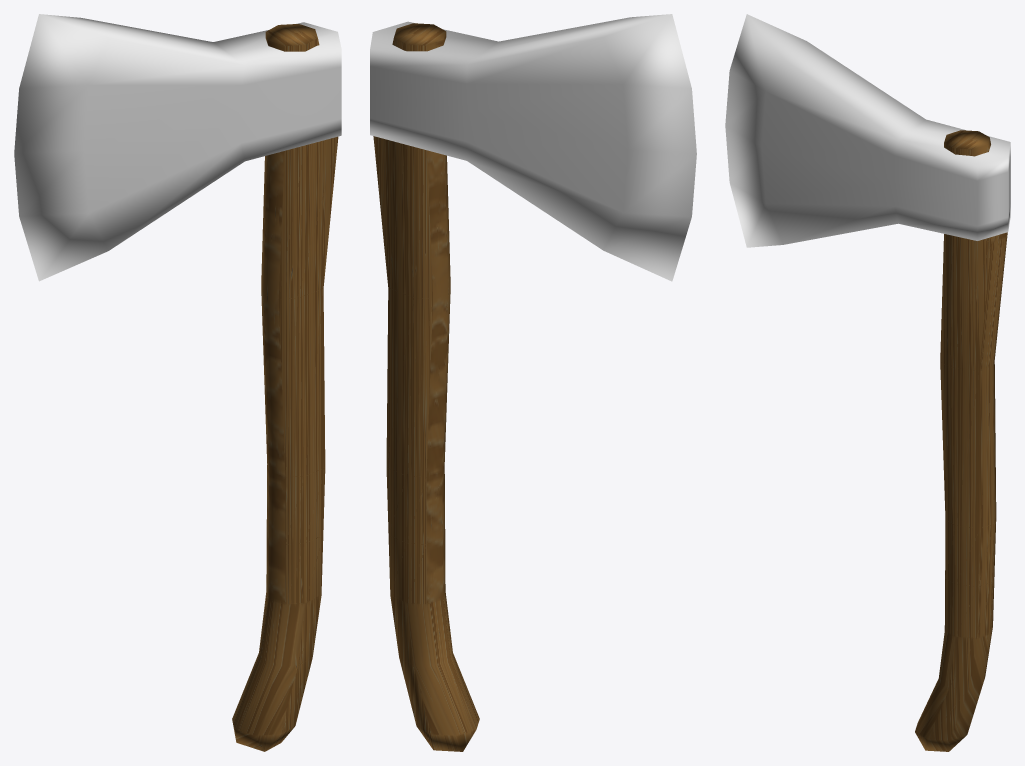
The model's file is baltasap.fbx.
3 views of the same model, side by side, from view 1: azimuth 30°, elevation 25°; view 2: azimuth 150°, elevation 25°; view 3: azimuth 330°, elevation 25° (orthographic). The views are drawn at different scales.
Parts seen in each view (by area): view 1: pCube1, pCylinder3; view 2: pCube1, pCylinder3; view 3: pCube1, pCylinder3.
Part boxes in pixels (left/top/right/bottom): pCube1: left=14, top=14, right=341, bottom=281; pCylinder3: left=232, top=24, right=338, bottom=751; pCube1: left=370, top=14, right=696, bottom=281; pCylinder3: left=373, top=23, right=479, bottom=751; pCube1: left=725, top=14, right=1010, bottom=247; pCylinder3: left=915, top=130, right=1007, bottom=751.
Bounding box in the file's own units: 3.95 × 9.13 × 0.8017.
2 materials, 1 textured.
